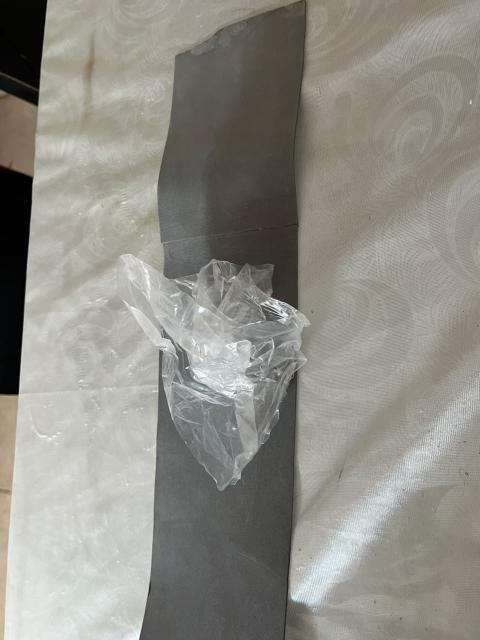LDPE: (92, 198, 355, 563)
